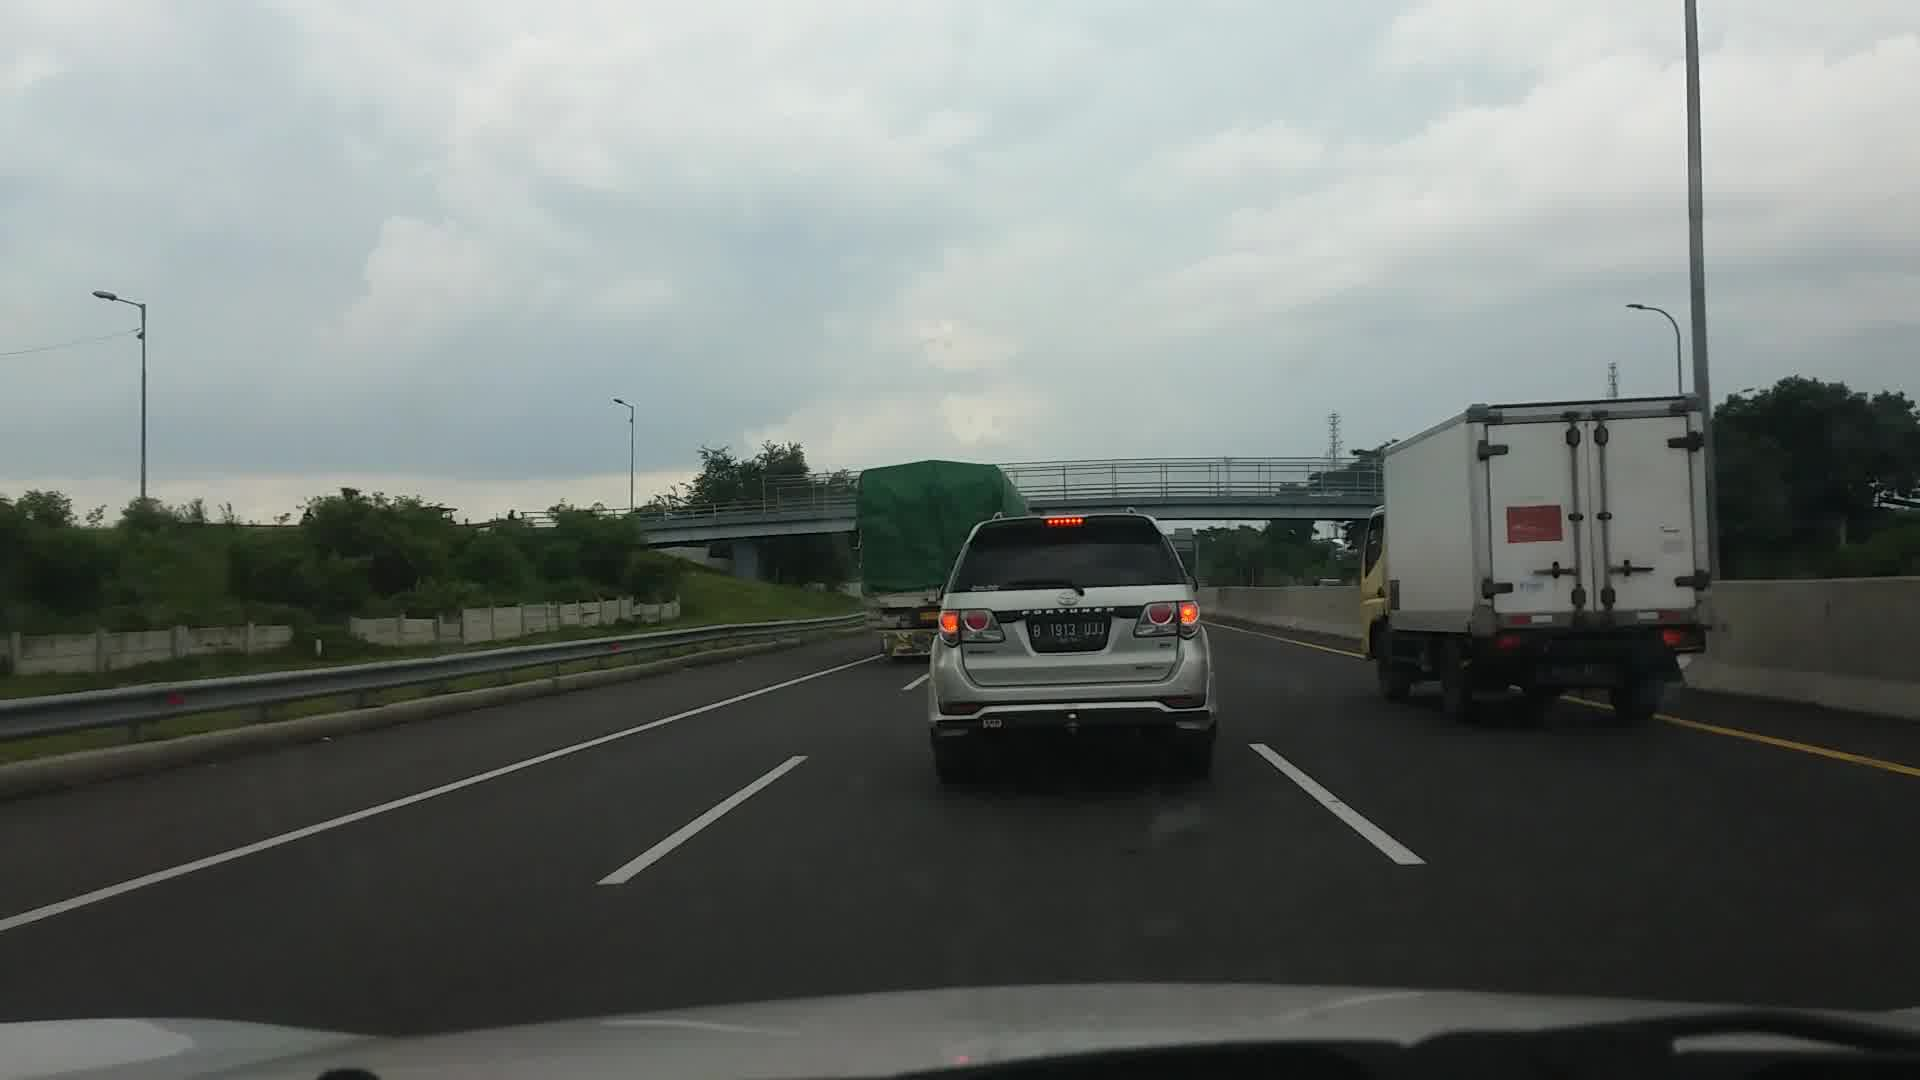plate_positive: (1031, 620, 1106, 644)
